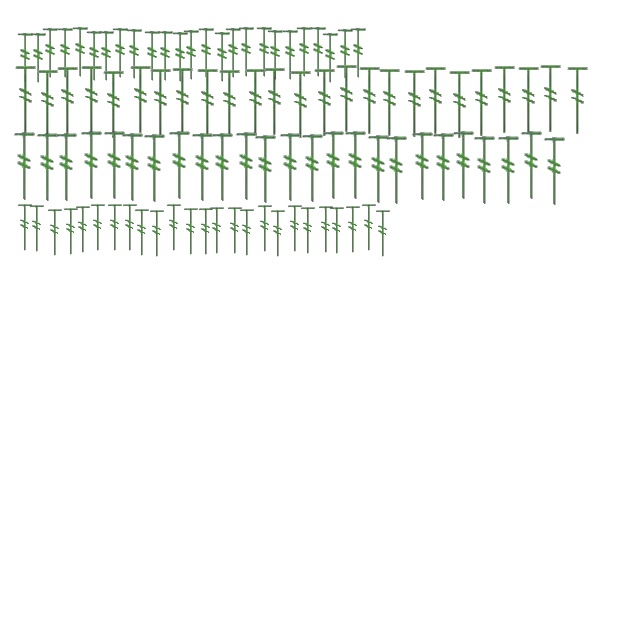fan: (13, 64, 39, 136), (35, 68, 61, 140), (79, 64, 105, 136), (128, 64, 154, 136), (170, 66, 196, 138), (217, 68, 243, 140), (262, 66, 288, 138), (402, 68, 428, 140), (492, 64, 518, 136), (55, 66, 81, 136), (101, 70, 127, 140), (148, 68, 174, 138), (195, 68, 221, 138), (243, 68, 269, 138), (288, 70, 314, 140), (312, 68, 338, 138), (334, 64, 360, 134), (357, 66, 383, 136), (377, 68, 403, 138), (423, 66, 449, 136), (447, 70, 473, 140), (469, 68, 495, 138), (516, 66, 542, 136), (538, 64, 564, 134), (565, 66, 591, 136), (35, 132, 59, 204), (54, 132, 78, 204), (79, 130, 103, 202), (102, 130, 126, 202), (120, 132, 144, 204), (167, 130, 191, 202), (190, 132, 214, 204), (210, 132, 234, 204), (253, 134, 277, 206), (278, 132, 302, 204), (321, 130, 345, 202), (343, 130, 367, 202), (366, 134, 390, 206), (431, 132, 455, 204), (451, 130, 475, 202), (519, 130, 543, 202), (542, 136, 566, 208), (12, 132, 36, 202), (142, 134, 166, 204), (234, 132, 258, 202), (300, 134, 324, 204), (384, 136, 408, 206), (410, 132, 434, 202), (472, 136, 496, 206), (496, 136, 520, 206), (16, 32, 34, 84), (29, 32, 47, 84), (41, 27, 59, 79), (56, 27, 74, 79), (71, 26, 89, 78), (85, 30, 103, 82), (97, 30, 115, 82), (111, 27, 129, 79), (125, 28, 143, 80), (143, 30, 161, 82), (156, 30, 174, 82), (171, 31, 189, 83), (182, 29, 200, 81), (197, 27, 215, 79), (213, 31, 231, 83), (224, 27, 242, 79), (237, 26, 255, 78), (255, 26, 273, 78), (266, 29, 284, 81), (281, 29, 299, 81), (295, 26, 313, 78), (309, 26, 327, 78), (321, 32, 339, 84), (336, 28, 354, 80), (349, 27, 367, 79), (16, 202, 34, 254), (62, 206, 80, 258), (74, 204, 92, 256), (89, 202, 107, 254), (106, 202, 124, 254), (121, 202, 139, 254), (148, 208, 166, 260), (165, 202, 183, 254), (182, 206, 200, 258), (197, 206, 215, 258), (269, 208, 287, 260), (317, 204, 335, 256), (344, 204, 362, 256), (360, 202, 378, 254), (374, 208, 392, 260), (28, 204, 46, 254), (46, 208, 64, 258), (133, 208, 151, 258), (208, 206, 226, 256), (226, 206, 244, 256), (238, 208, 256, 258), (256, 204, 274, 254), (286, 204, 304, 254), (299, 206, 317, 256), (328, 206, 346, 256)
